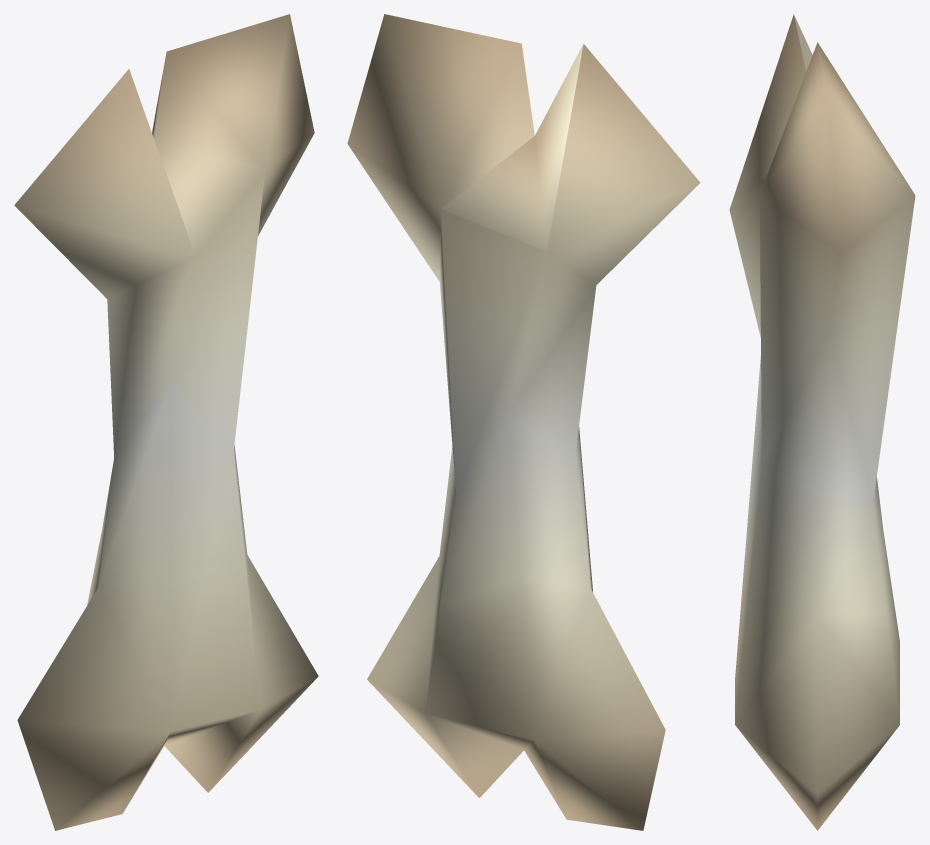
Rendered from Limb_Bone.fbx.
3 renders of one model, left to right at view 1: azimuth 30°, elevation 25°; view 2: azimuth 150°, elevation 25°; view 3: azimuth 270°, elevation 25°, orthographic. The views are drawn at different scales.
Parts seen in each view (by area): view 1: pCylinder5; view 2: pCylinder5; view 3: pCylinder5.
Boxes of the visible parts, x1,y1,x2,y2 form: pCylinder5: [14, 14, 318, 830]; pCylinder5: [347, 14, 700, 830]; pCylinder5: [729, 14, 915, 830].
Bounding box in the file's own units: 0.3786 × 0.844 × 0.1844.
